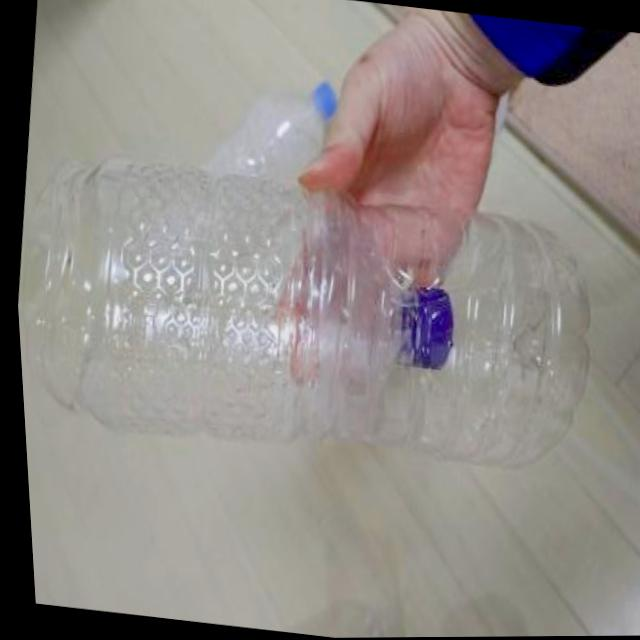anorganik: (5, 100, 640, 568)
